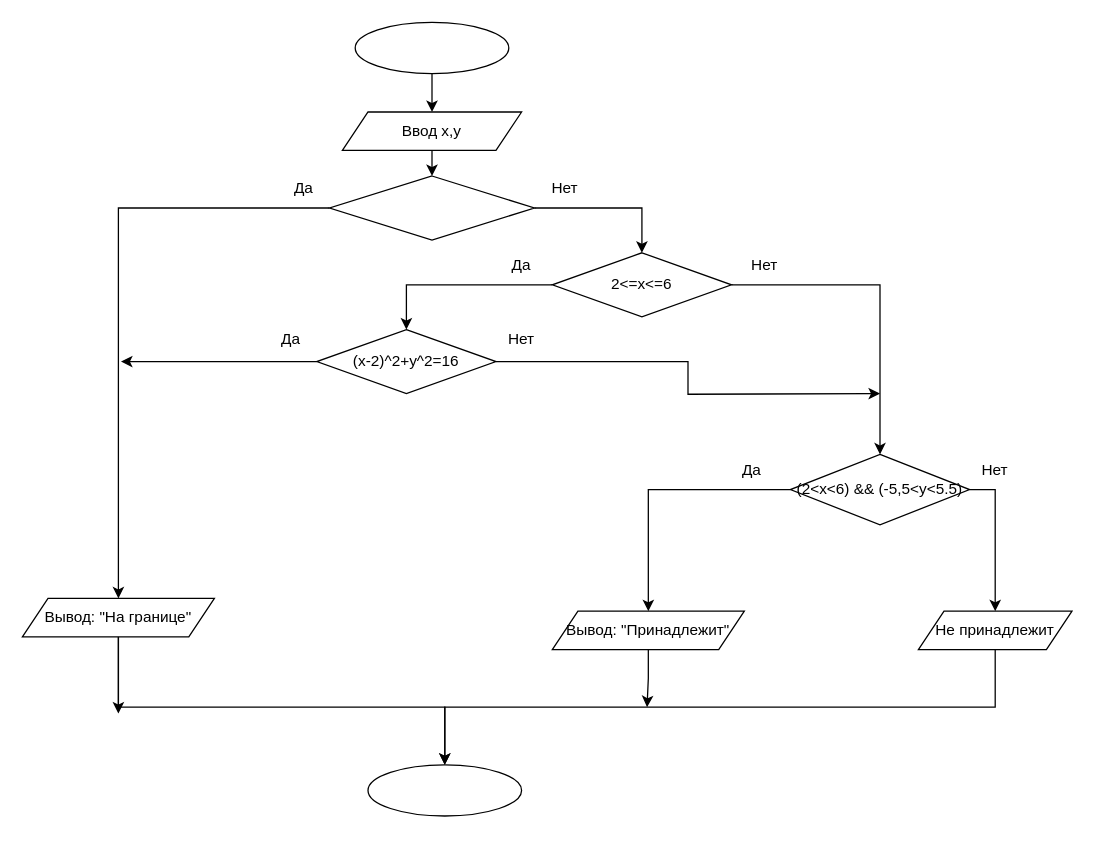
Image size: 1094x849. Some labels were removed from this diagram. Each missing label, with the centre of its shape:
(x=2) && (-5,5<=y<=5.5): (x=431, y=207)
Конец: (x=444, y=790)
Начало: (x=431, y=47)
